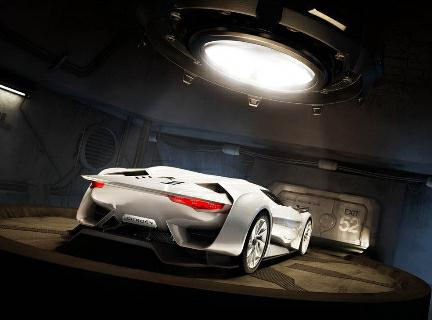雪铁龙-GT: (67, 156, 325, 280)
